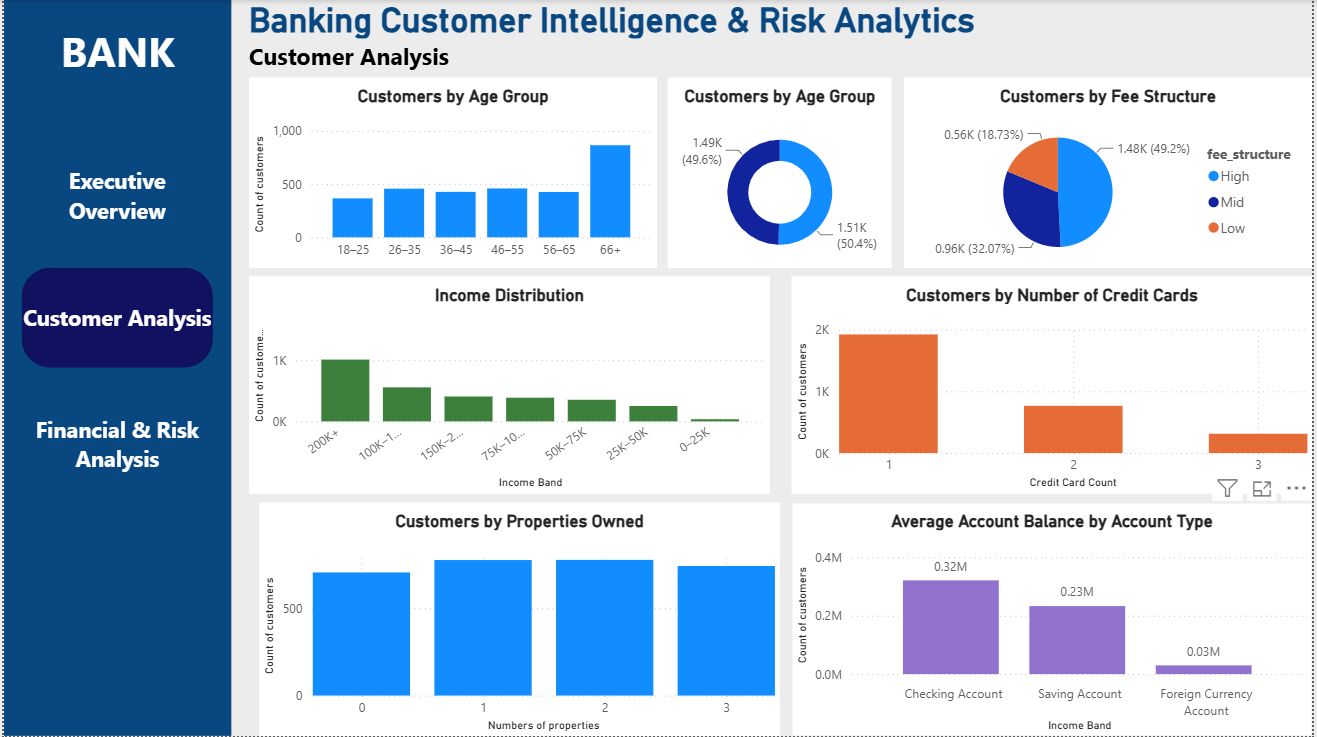

Layout of this report page (visuals, bound fields, positions):
{"tool":"powerbi","page":{"name":"Customer Analysis","canvas":[1280,720],"ordinal":1},"visuals":[{"type":"shape","box":[0,0,222.4,719.9],"z":0},{"type":"shape","box":[17.1,141.8,187.3,98],"z":1000},{"type":"shape","title":"Executive Overview","box":[17.1,261.7,187.3,98],"z":2000},{"type":"shape","box":[16.6,385.5,187.3,98],"z":3000},{"type":"shape","title":"Banking Customer Intelligence & Risk Analytics","box":[239.7,0,1040.3,112.7],"z":4000},{"type":"clusteredColumnChart","title":"Customers by Age Group","fields":{"Category":["public banking_customers.Age Group"],"Y":["CountNonNull(public banking_customers.client_id)"]},"box":[240,75.3,399.5,186.4],"z":5000},{"type":"donutChart","title":"Customers by Age Group","fields":{"Y":["CountNonNull(public banking_customers.client_id)"],"Category":["public banking_customers.Gender"]},"box":[649.7,75.3,219.5,186.4],"z":6000},{"type":"pieChart","title":"Customers by Fee Structure","fields":{"Y":["CountNonNull(public banking_customers.client_id)"],"Category":["public banking_customers.fee_structure"]},"box":[880.7,75.3,399.5,186.4],"z":7000},{"type":"clusteredColumnChart","title":"Income Distribution","fields":{"Y":["CountNonNull(public banking_customers.client_id)"],"Category":["public banking_customers.Income Band"]},"box":[239.7,270.2,509.9,212.8],"z":8000},{"type":"clusteredColumnChart","title":"Customers by Number of Credit Cards","fields":{"Y":["CountNonNull(public banking_customers.client_id)"],"Category":["public banking_customers.amount_of_credit_cards"]},"box":[770.4,270.2,509.9,212.8],"z":9000},{"type":"clusteredColumnChart","title":"Customers by Properties Owned","fields":{"Y":["CountNonNull(public banking_customers.client_id)"],"Category":["public banking_customers.properties_owned"]},"box":[249.5,491.6,509.9,228.7],"z":10000},{"type":"clusteredColumnChart","title":"Average Account Balance by Account Type","fields":{"Category":["Account Types.Account Type"],"Y":["public banking_customers.Average Account Balance"]},"box":[770.4,491.6,509.9,228.7],"z":11000}]}

Visuals, with their boxes on the page's 1280x720 design canvas (x1, y1, x2, y2). These are canvas units, not pixel positions in the 1317x737 screenshot, which may show the page scaled, cropped or inside an application window:
shape: <box>0,0,222,720</box>
shape: <box>17,142,204,240</box>
"Executive Overview" shape: <box>17,262,204,360</box>
shape: <box>17,386,204,484</box>
"Banking Customer Intelligence & Risk Analytics" shape: <box>240,0,1280,113</box>
"Customers by Age Group" clusteredColumnChart: <box>240,75,640,262</box>
"Customers by Age Group" donutChart: <box>650,75,869,262</box>
"Customers by Fee Structure" pieChart: <box>881,75,1280,262</box>
"Income Distribution" clusteredColumnChart: <box>240,270,750,483</box>
"Customers by Number of Credit Cards" clusteredColumnChart: <box>770,270,1280,483</box>
"Customers by Properties Owned" clusteredColumnChart: <box>250,492,759,720</box>
"Average Account Balance by Account Type" clusteredColumnChart: <box>770,492,1280,720</box>
